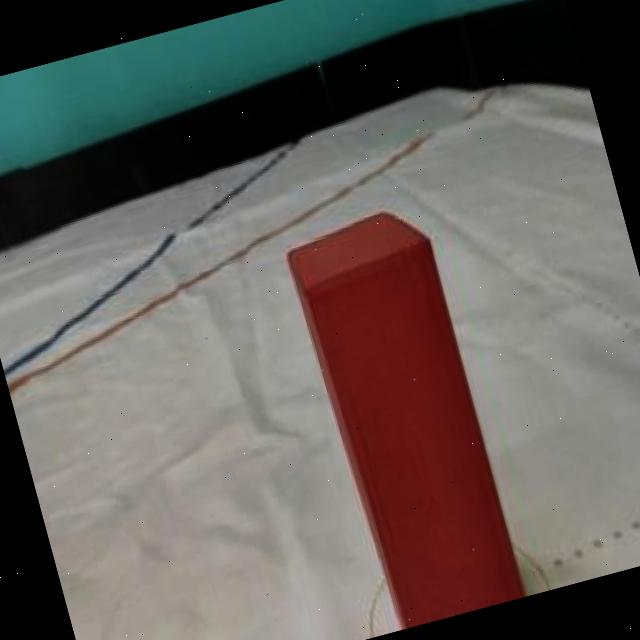redbox: (280, 195, 526, 633)
